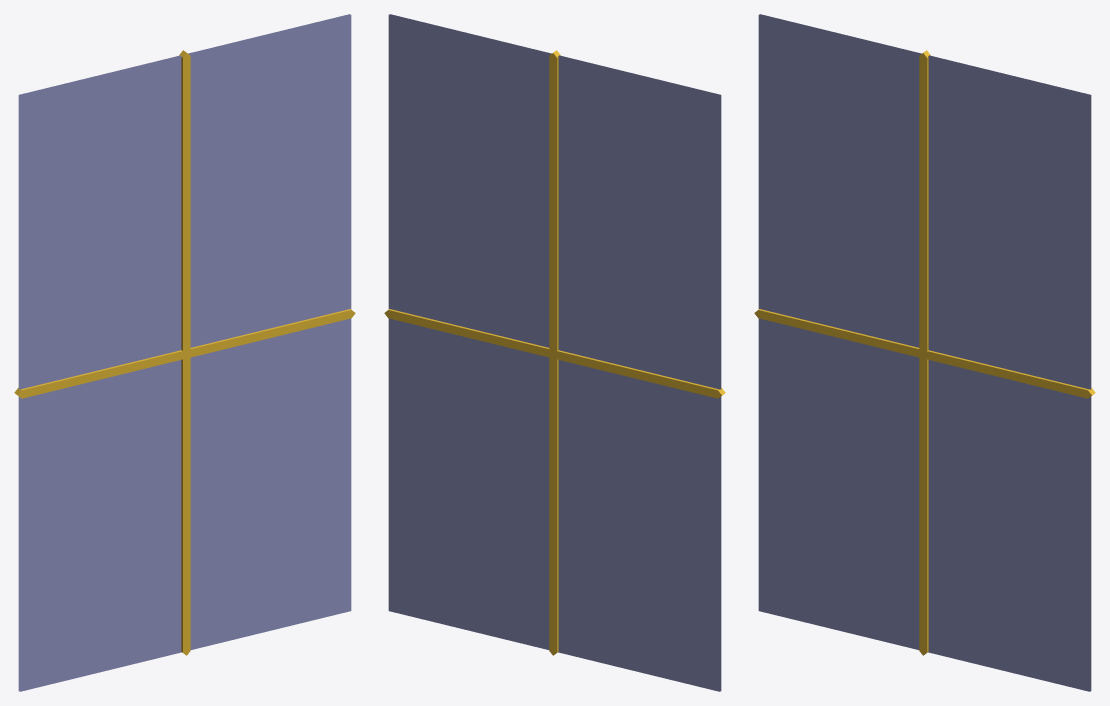
File: Window_001.fbx
3 views of the same model, side by side, from view 1: azimuth 30°, elevation 25°; view 2: azimuth 150°, elevation 25°; view 3: azimuth 330°, elevation 25° (orthographic).
Visible parts, largest first — view 1: Object147; view 2: Object147; view 3: Object147.
Boxes of the visible parts, left/top/right/bottom form: Object147: left=14, top=14, right=355, bottom=691; Object147: left=384, top=14, right=725, bottom=691; Object147: left=754, top=14, right=1095, bottom=691.
Size of the model in its own units: 85.59 by 146 by 1.62.
